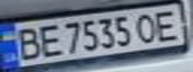3: (97, 15, 118, 49)
5: (112, 12, 136, 47), (78, 16, 100, 52)
7: (60, 19, 84, 55)
B: (9, 25, 45, 62)
E: (148, 7, 184, 42), (33, 21, 63, 57)
O: (133, 10, 163, 44)
